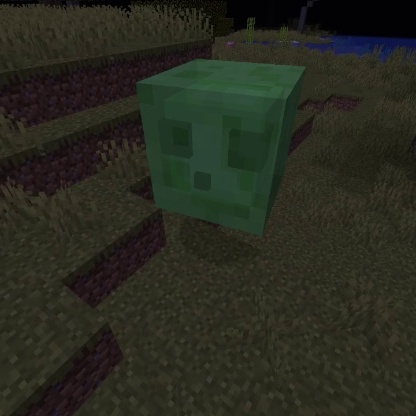slime: (129, 54, 310, 242)
